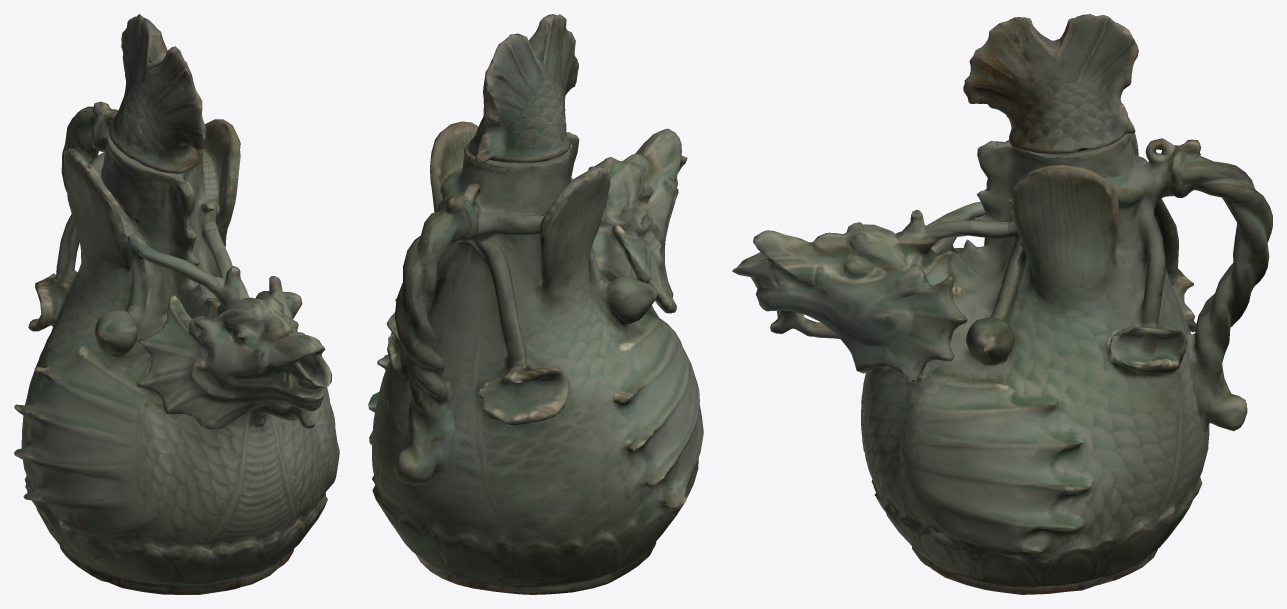
File: observation-4.glb
3 renders of one model, left to right at view 1: azimuth 30°, elevation 25°; view 2: azimuth 150°, elevation 25°; view 3: azimuth 270°, elevation 25°, orthographic. The views are drawn at different scales.
Visible parts, largest first — view 1: gae000002-001-30000, gae000002-002-30000; view 2: gae000002-001-30000, gae000002-002-30000; view 3: gae000002-001-30000, gae000002-002-30000.
Part boxes in pixels (x1,y1,x2,y2): gae000002-001-30000: (14, 101, 339, 594); gae000002-002-30000: (109, 14, 206, 173); gae000002-001-30000: (368, 121, 703, 594); gae000002-002-30000: (468, 14, 578, 163); gae000002-001-30000: (732, 133, 1272, 594); gae000002-002-30000: (963, 14, 1138, 153).
Size of the model in its own units: 1.28 by 2.2 by 2.03.
Materials: 2 (2 with a texture image).
